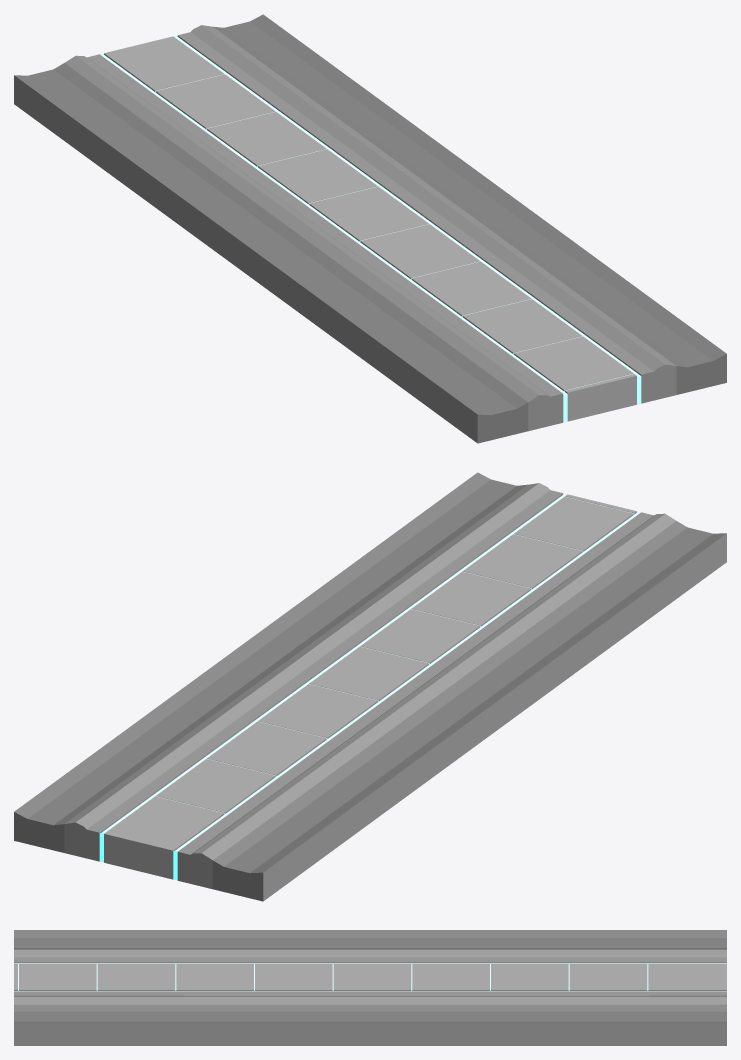
File: 1st hallway floor.fbx
3 views of the same model, one above another, from view 1: azimuth 30°, elevation 25°; view 2: azimuth 150°, elevation 25°; view 3: azimuth 270°, elevation 25° (orthographic). The views are drawn at different scales.
Visible parts, largest first — view 1: Cube.021; view 2: Cube.021; view 3: Cube.021.
Part boxes in pixels (bbox=[...]): Cube.021: bbox=[14, 14, 726, 443]; Cube.021: bbox=[14, 472, 726, 901]; Cube.021: bbox=[14, 930, 726, 1045].
Bounding box in the file's own units: 900 × 115 × 2900.
